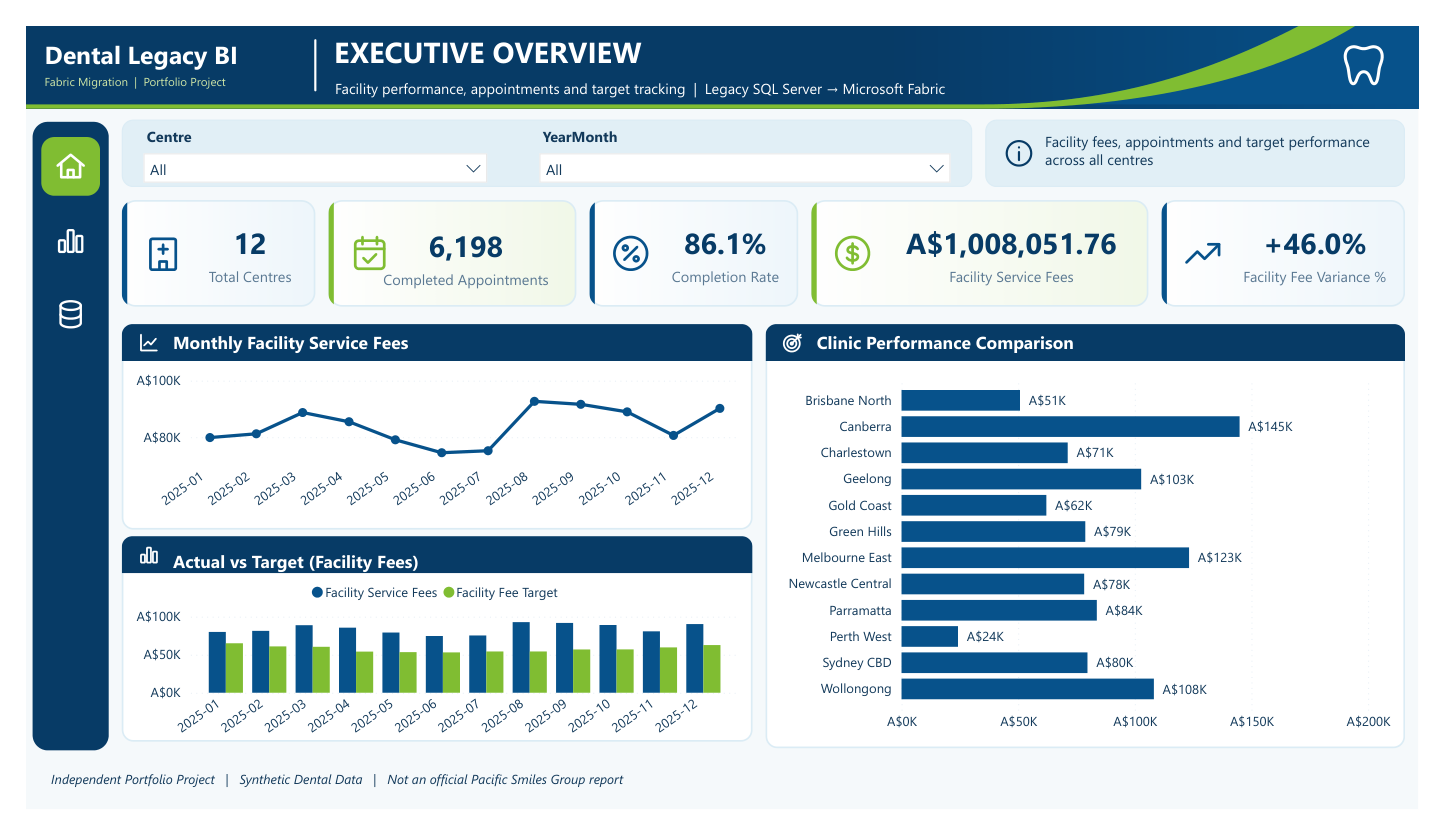

This screenshot's page, from the dashboard's own definition file:
{"tool":"powerbi","page":{"name":"Executive Overview","canvas":[1280,720],"ordinal":0},"visuals":[{"type":"image","box":[0,0,1280,76],"z":0},{"type":"image","box":[6,88,70,578],"z":1000},{"type":"image","box":[14,102,54,54],"z":2000},{"type":"image","box":[14,170,54,54],"z":3000},{"type":"image","box":[14,238,54,54],"z":4000},{"type":"image","box":[88,86,782,62],"z":5000},{"type":"image","box":[882,86,386,62],"z":6000},{"type":"image","box":[88,160,178,98],"z":7000},{"type":"image","box":[278,160,228,98],"z":8000},{"type":"image","box":[518,160,192,98],"z":9000},{"type":"image","box":[722,160,310,98],"z":10000},{"type":"image","box":[1044,160,224,98],"z":11000},{"type":"image","box":[88,274,580,189],"z":12000},{"type":"image","box":[88,463,580,201],"z":13000},{"type":"image","box":[680,274,588,390],"z":14000},{"type":"textbox","box":[12,6,248,60],"z":15000},{"type":"textbox","box":[278,0,640,46],"z":16000},{"type":"textbox","box":[279,43,700,29],"z":17000},{"type":"textbox","box":[932,92,330,52],"z":18000},{"type":"textbox","box":[18,678,900,30],"z":19000},{"type":"textbox","box":[130,275,524,32],"z":20000},{"type":"textbox","box":[130,476,524,32],"z":21000},{"type":"textbox","box":[722,275,532,32],"z":22000},{"type":"card","title":"Total Centres","fields":{"Values":["legacy_centres.Total Centres"]},"box":[154,167,104,84],"z":23000},{"type":"card","title":"Completed Appointments","fields":{"Values":["legacy_centres.Completed Appointments"]},"box":[310,170,189,84],"z":24000},{"type":"card","title":"Completion Rate","fields":{"Values":["legacy_centres.Completion Rate"]},"box":[584,167,118,84],"z":25000},{"type":"card","title":"Facility Service Fees","fields":{"Values":["legacy_centres.Facility Service Fees"]},"box":[788,167,236,84],"z":26000},{"type":"card","title":"Facility Fee Variance %","fields":{"Values":["legacy_centres.Facility Fee Variance %"]},"box":[1110,167,150,84],"z":27000},{"type":"slicer","title":"Centre Name","fields":{"Values":["legacy_centres.centre_name"]},"box":[98,88,336,58],"z":28000},{"type":"slicer","title":"Yearmonth","fields":{"Values":["DimDate.YearMonth"]},"box":[462,88,398,58],"z":29000},{"type":"lineChart","title":"Monthly Facility Service Fees","fields":{"Category":["DimDate.YearMonth"],"Y":["legacy_centres.Facility Service Fees"]},"box":[96,312,564,145],"z":30000},{"type":"clusteredColumnChart","title":"Actual vs Target (Facility Fees)","fields":{"Category":["DimDate.YearMonth"],"Y":["Measures_.Facility Service Fees","Measures_.Facility Fee Target"]},"box":[96,501,564,163],"z":31000},{"type":"clusteredBarChart","title":"Clinic Performance Comparison","fields":{"Category":["legacy_centres.centre_name"],"Y":["legacy_centres.Facility Service Fees"]},"box":[688,312,572,346],"z":32000},{"type":"actionButton","box":[14,102,54,54],"z":33000},{"type":"actionButton","box":[14,170,54,54],"z":34000},{"type":"actionButton","box":[14,238,54,54],"z":35000}]}

Visuals, with their boxes in screenshot pixels (x1, y1, x2, y2), scaled from the page's 1280x720 canvas onto the 1445x836 screenshot:
image: [left=0, top=0, right=1444, bottom=88]
image: [left=7, top=102, right=86, bottom=773]
image: [left=16, top=118, right=77, bottom=181]
image: [left=16, top=197, right=77, bottom=260]
image: [left=16, top=276, right=77, bottom=339]
image: [left=99, top=100, right=982, bottom=172]
image: [left=996, top=100, right=1431, bottom=172]
image: [left=99, top=186, right=300, bottom=300]
image: [left=314, top=186, right=571, bottom=300]
image: [left=585, top=186, right=802, bottom=300]
image: [left=815, top=186, right=1165, bottom=300]
image: [left=1179, top=186, right=1431, bottom=300]
image: [left=99, top=318, right=754, bottom=538]
image: [left=99, top=538, right=754, bottom=771]
image: [left=768, top=318, right=1431, bottom=771]
textbox: [left=14, top=7, right=294, bottom=77]
textbox: [left=314, top=0, right=1036, bottom=53]
textbox: [left=315, top=50, right=1105, bottom=84]
textbox: [left=1052, top=107, right=1425, bottom=167]
textbox: [left=20, top=787, right=1036, bottom=822]
textbox: [left=147, top=319, right=738, bottom=356]
textbox: [left=147, top=553, right=738, bottom=590]
textbox: [left=815, top=319, right=1416, bottom=356]
"Total Centres" card: [left=174, top=194, right=291, bottom=291]
"Completed Appointments" card: [left=350, top=197, right=563, bottom=295]
"Completion Rate" card: [left=659, top=194, right=792, bottom=291]
"Facility Service Fees" card: [left=890, top=194, right=1156, bottom=291]
"Facility Fee Variance %" card: [left=1253, top=194, right=1422, bottom=291]
"Centre Name" slicer: [left=111, top=102, right=490, bottom=170]
"Yearmonth" slicer: [left=522, top=102, right=971, bottom=170]
"Monthly Facility Service Fees" lineChart: [left=108, top=362, right=745, bottom=531]
"Actual vs Target (Facility Fees)" clusteredColumnChart: [left=108, top=582, right=745, bottom=771]
"Clinic Performance Comparison" clusteredBarChart: [left=777, top=362, right=1422, bottom=764]
actionButton: [left=16, top=118, right=77, bottom=181]
actionButton: [left=16, top=197, right=77, bottom=260]
actionButton: [left=16, top=276, right=77, bottom=339]
